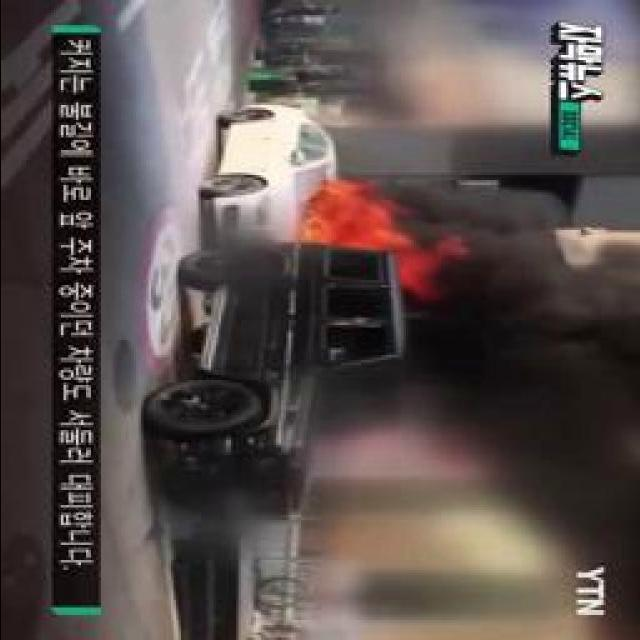Fire: (306, 196, 408, 250)
